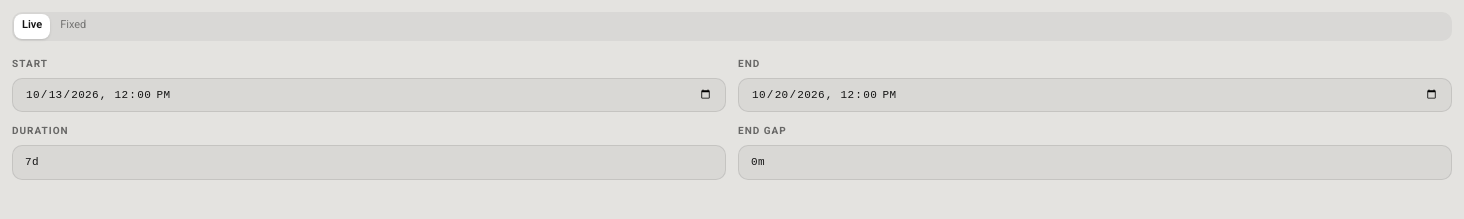
open ends › a blank End is refused where they are not
Clear the field labelled "End" at x=1095, y=95, box [738,78,1452,112]
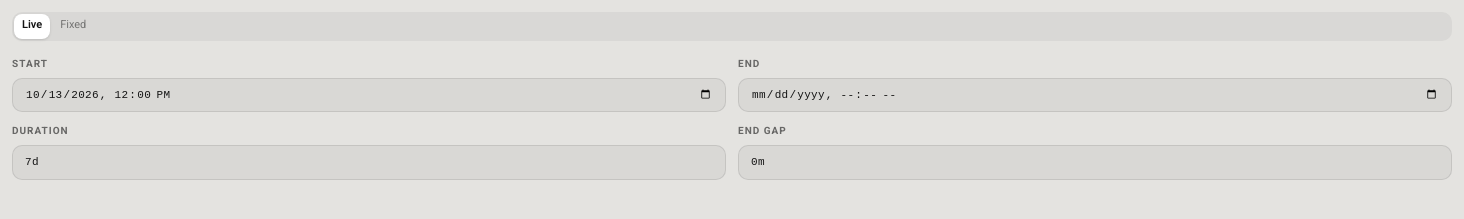
Press Enter in the field labelled "End", box [738,78,1452,112]
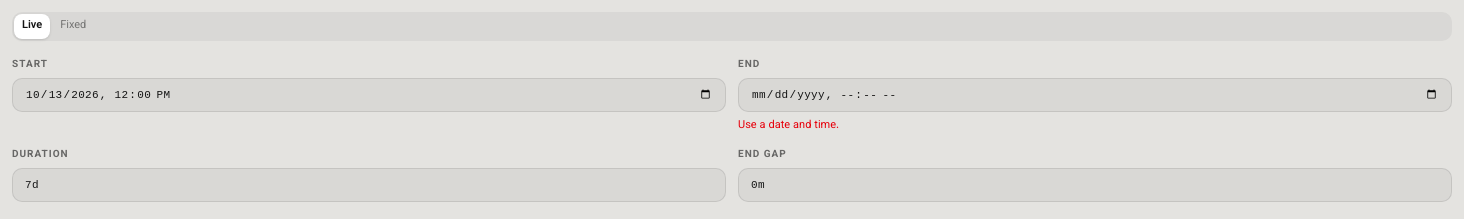
expect the message reads "Use a date and time.": met, box [738,117,839,134]
